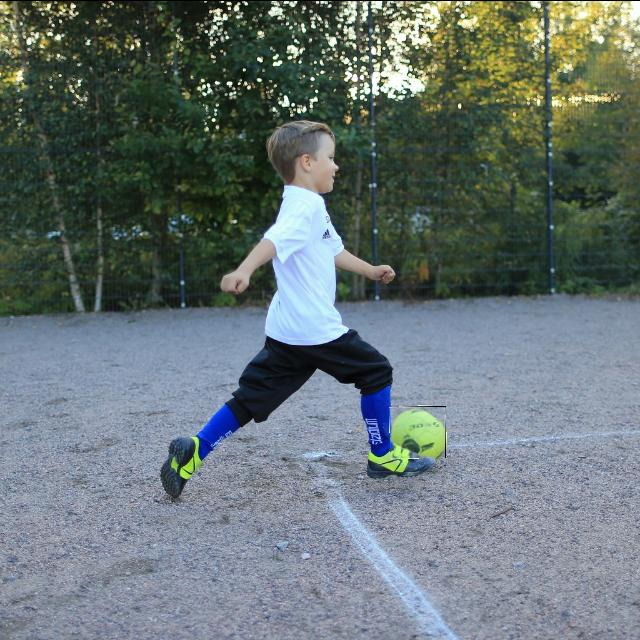Football: (390, 406, 446, 458)
